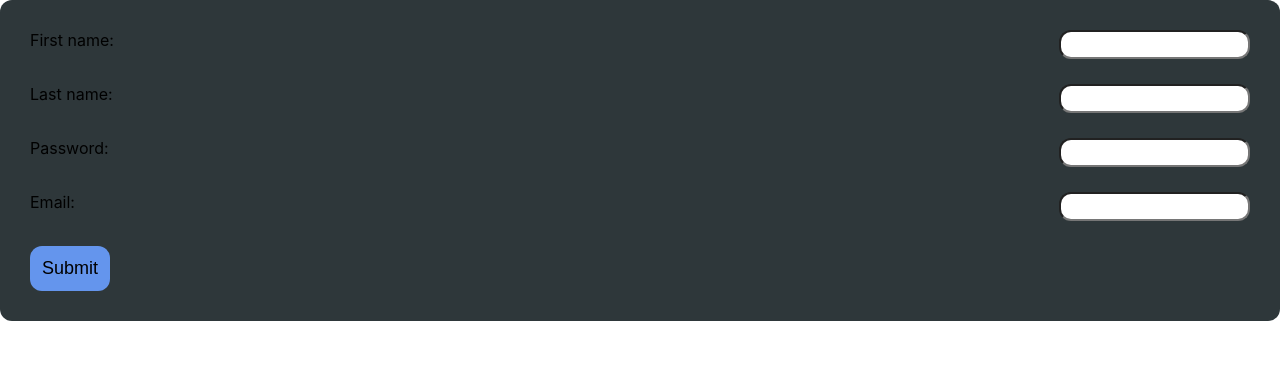
check for errors if wrong Last Name is passed
Set input values
Type "John" into the field labelled "First name:". click: (1154, 44)
box: [1059,30,1250,59]
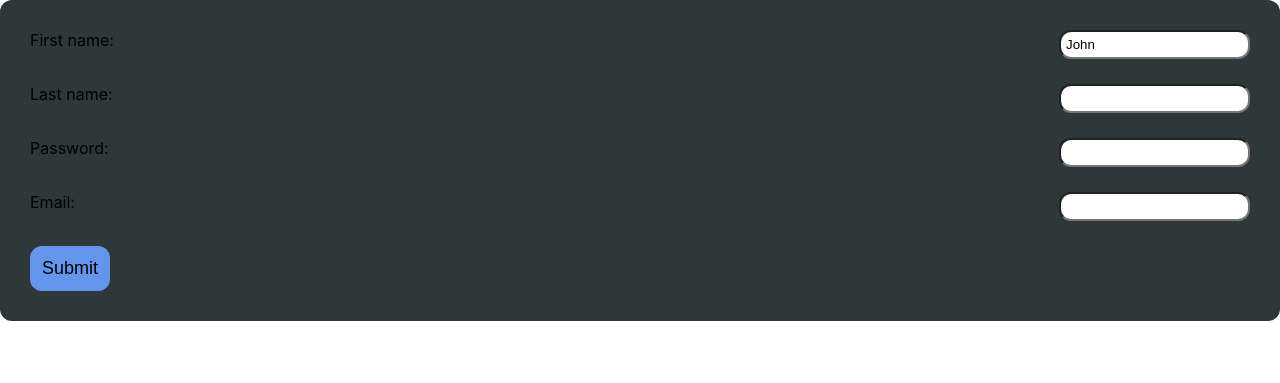
Type "abcd" into the field labelled "Last name:". click: (1154, 98)
box: [1059,84,1250,113]
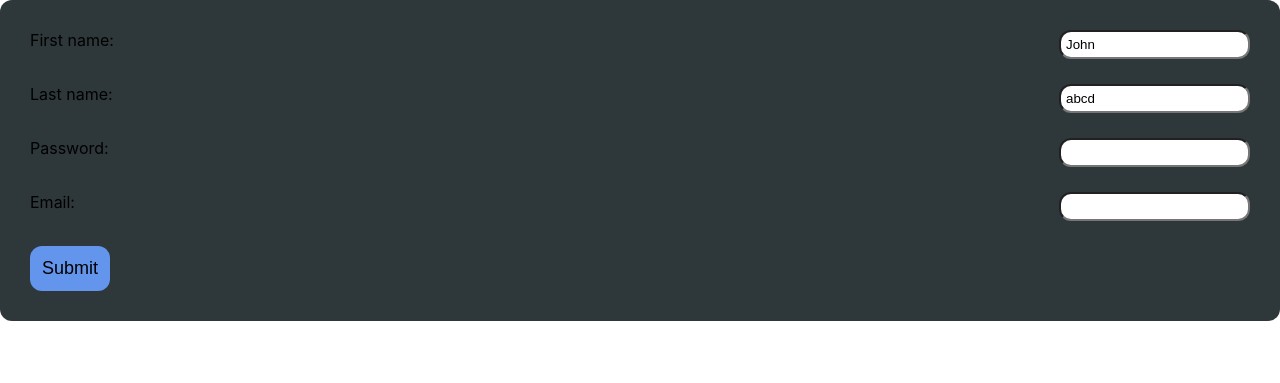
Type "johndoe@example.com" into the field labelled "Email:". click: (1154, 206)
box: [1059,192,1250,221]
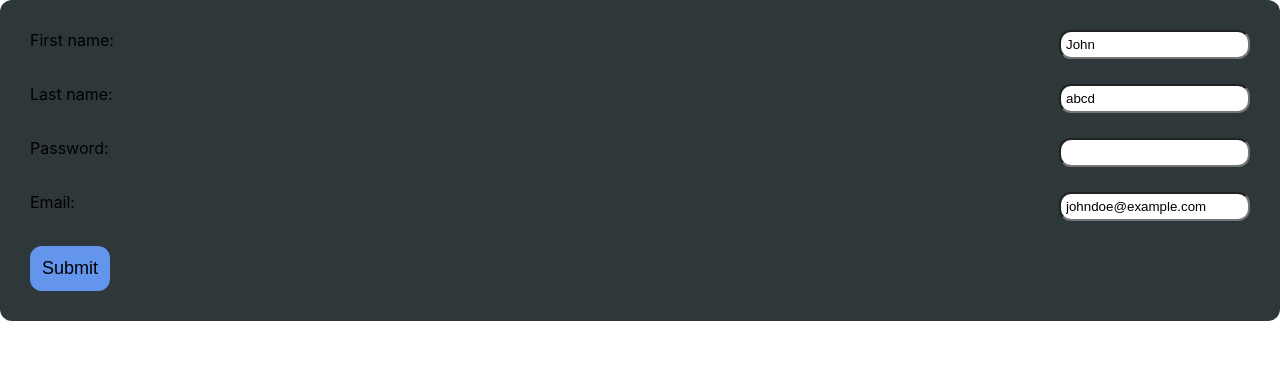
Type "Password#45" into the password field labelled "Password:". click: (1154, 152)
box: [1059,138,1250,167]
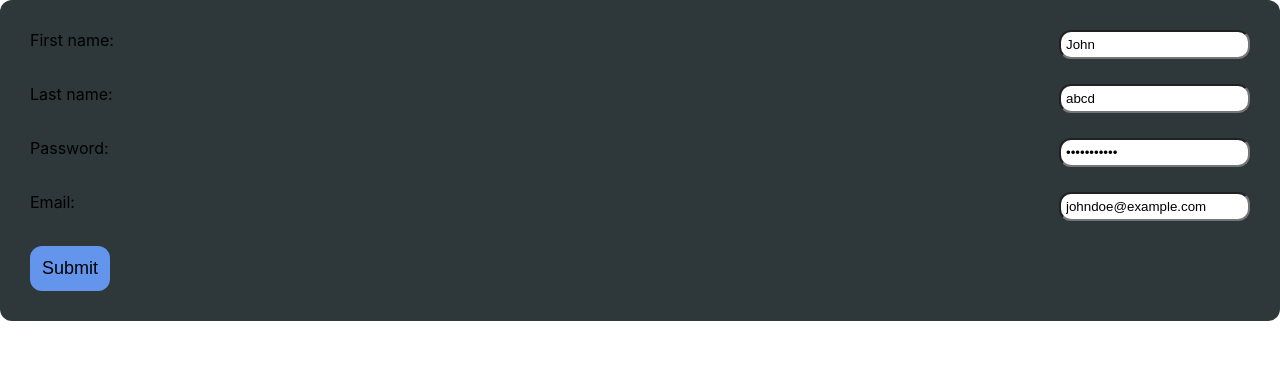
Trigger form submission
Click the button "Submit". click: (70, 268)
box: [30,246,110,291]
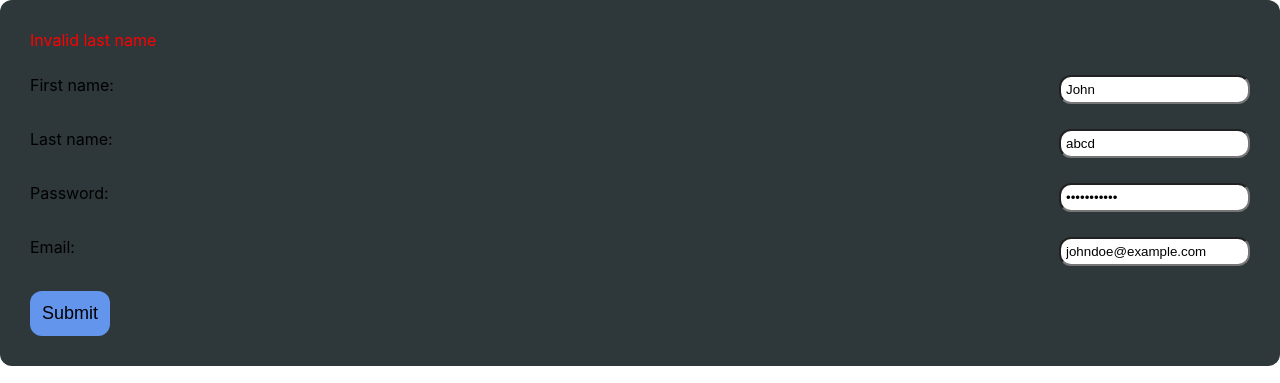
Now the text "Invalid last name" is shown, box [30,30,156,50]
